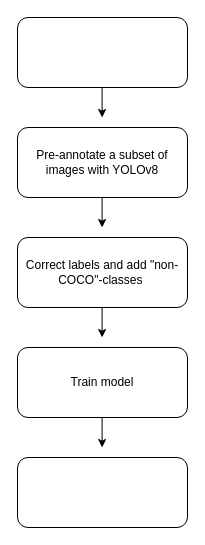
Some shapes in this 205 by 545 pixel diagram are drawn without their labels. The centre of each missing label's shape, as x and y in pixels:
Define classes: the point at 102,52
Pre-annotate new images with previous model and correct manually: the point at 102,492
